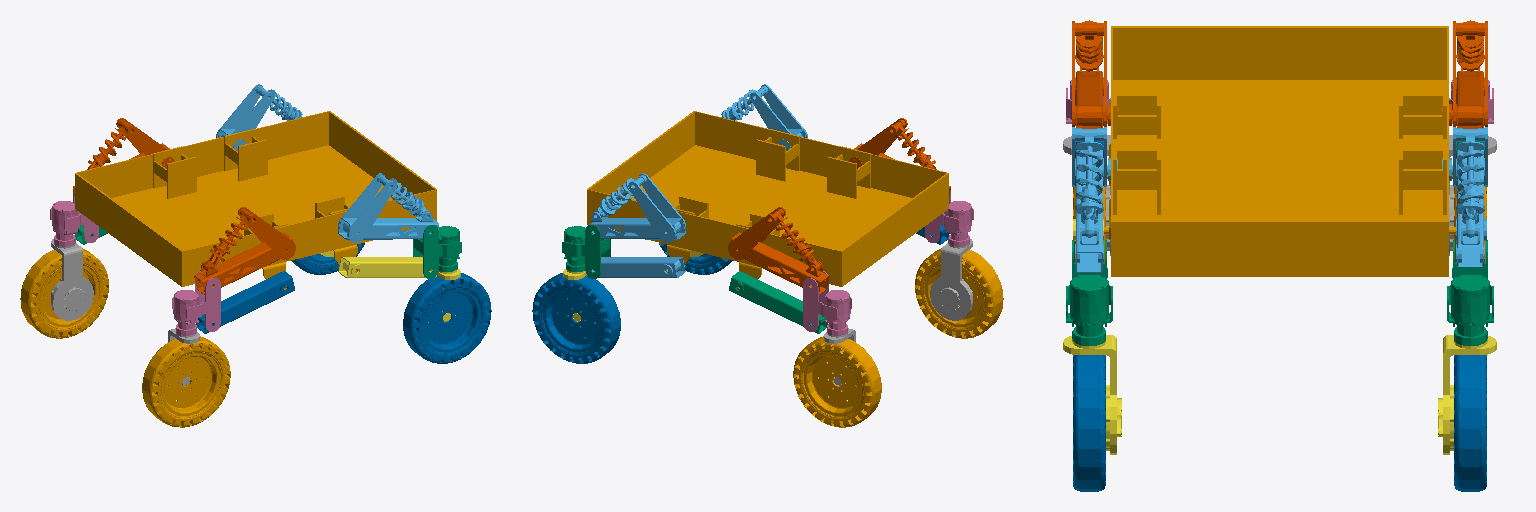
robot.urdf — parallelogram_rover:
<?xml version='1.0' encoding='utf-8'?>
<!--
  parallelogram_rover.urdf — 面向高并行训练的平行四边形等效开链模型

  @author pony
  @date 2026-08-11
  @version v1.0.1
  @last_modified 2026-08-12
  @changelog
    - v1.0.1 (2026-08-12): 四个轮端速度上限统一为 5 转/秒（10*pi rad/s）
    - v1.0.0 (2026-08-11): 迁移 CAD 资产并加入上下摆臂 mimic 联动

  边界：本文件保持 URDF 树结构；下摆臂远端不建立第二 parent，而由 mimic
  关节保证理想平行四边形的运动学联动。真实闭环载荷分配由后续 USD/MJCF
  派生模型负责，训练策略只应控制非 mimic 主关节。
-->
<robot name="parallelogram_rover">
  <link name="base_link">
    <inertial>
      <origin xyz="-8.6361926e-10 0.0019321624 -0.00063856783" rpy="0 0 0" />
      <mass value="3.4461078" />
      <inertia ixx="0.10363444" iyy="0.15841372" izz="0.25679732" ixy="-1.905376e-12" ixz="1.8141684e-11" iyz="-7.9038615e-06" />
    </inertial>
    <visual>
      <origin xyz="-0.16301221 0.051000008 0.090569759" rpy="0 0 0" />
      <geometry>
        <mesh filename="../meshes/part_001_0806_04_01.stl" scale="0.001 0.001 0.001" />
      </geometry>
    </visual>
    <collision>
      <origin xyz="0 0 0" rpy="0 0 0" />
      <geometry>
        <box size="0.68 0.59728 0.146" />
      </geometry>
    </collision>
  </link>
  <link name="fl_arm">
    <inertial>
      <origin xyz="0.080065293 -0.014341666 -0.0011581426" rpy="0 0 0" />
      <mass value="0.2935297" />
      <inertia ixx="0.00053646837" iyy="0.0015728498" izz="0.0019316215" ixy="-5.8425894e-05" ixz="-3.8770982e-05" iyz="7.8535183e-06" />
    </inertial>
    <visual>
      <origin xyz="-0.25801222 -0.050569758 -0.23087" rpy="1.5707963 0 0" />
      <geometry>
        <mesh filename="../meshes/part_004_0806_04_05.stl" scale="0.001 0.001 0.001" />
      </geometry>
    </visual>
  </link>
  <link name="fl_zhuanxiang">
    <inertial>
      <origin xyz="0.046766334 0.058557156 -0.013329707" rpy="0 0 0" />
      <mass value="0.23839331" />
      <inertia ixx="0.00023054384" iyy="0.00023379465" izz="0.00032017385" ixy="-2.6936591e-05" ixz="1.4107961e-07" iyz="6.5435729e-08" />
    </inertial>
    <visual>
      <origin xyz="-0.45287169 -0.095622906 -0.24464" rpy="1.5707963 0 0" />
      <geometry>
        <mesh filename="../meshes/part_002_0806_04_03.stl" scale="0.001 0.001 0.001" />
      </geometry>
    </visual>
  </link>
  <link name="fl_qudong">
    <inertial>
      <origin xyz="-0.00029177758 -0.020772459 -0.15215975" rpy="0 0 0" />
      <mass value="0.26857533" />
      <inertia ixx="0.00089258896" iyy="0.0009611072" izz="0.00018895663" ixy="-7.8780609e-07" ixz="-2.1574507e-06" iyz="-0.00010374897" />
    </inertial>
    <visual>
      <origin xyz="-0.51025325 -0.23137 0.1558363" rpy="0 0 0" />
      <geometry>
        <mesh filename="../meshes/part_014_Copy_1_of_0806_02_10.stl" scale="0.001 0.001 0.001" />
      </geometry>
    </visual>
    <collision>
      <origin xyz="0 -0.0045 -0.1259416" rpy="0 0 0" />
      <geometry>
        <box size="0.11 0.088 0.2175832" />
      </geometry>
    </collision>
  </link>
  <link name="fl_wheel">
    <inertial>
      <origin xyz="-6.4261245e-06 -5.0633409e-05 0.033367991" rpy="0 0 0" />
      <mass value="0.87778312" />
      <inertia ixx="0.0036472254" iyy="0.0036391495" izz="0.0069910427" ixy="5.0153255e-06" ixz="1.0822219e-07" iyz="8.2226923e-07" />
    </inertial>
    <visual>
      <origin xyz="-0.51025325 -0.3355695 -0.19787" rpy="1.5707963 0 0" />
      <geometry>
        <mesh filename="../meshes/part_018_Copy_1_of_0806_02_02.stl" scale="0.001 0.001 0.001" />
      </geometry>
    </visual>
    <collision>
      <origin xyz="0 0 0.0335" rpy="0 0 0" />
      <geometry>
        <cylinder radius="0.1085" length="0.048" />
      </geometry>
    </collision>
  </link>
  <link name="rl_arm">
    <inertial>
      <origin xyz="-0.081854204 -0.013463534 -0.0011346707" rpy="0 0 0" />
      <mass value="0.2977402" />
      <inertia ixx="0.00055453246" iyy="0.0016408131" izz="0.0020161184" ixy="9.090418e-05" ixz="3.9642529e-05" iyz="7.4258156e-06" />
    </inertial>
    <visual>
      <origin xyz="-0.068012217 -0.050569758 -0.23087" rpy="1.5707963 0 0" />
      <geometry>
        <mesh filename="../meshes/part_007_Copy_1_of_0806_02_06.stl" scale="0.001 0.001 0.001" />
      </geometry>
    </visual>
  </link>
  <link name="rl_zhuanxiang">
    <inertial>
      <origin xyz="-0.046766191 0.058556992 -0.026059795" rpy="0 0 0" />
      <mass value="0.23839111" />
      <inertia ixx="0.00023054296" iyy="0.00023379253" izz="0.00032017135" ixy="2.6936018e-05" ixz="-1.4071972e-07" iyz="6.5810717e-08" />
    </inertial>
    <visual>
      <origin xyz="0.12684726 -0.095622906 -0.25737" rpy="1.5707963 0 0" />
      <geometry>
        <mesh filename="../meshes/part_005_0806_04_00.stl" scale="0.001 0.001 0.001" />
      </geometry>
    </visual>
  </link>
  <link name="rl_qudong">
    <inertial>
      <origin xyz="0.00029156796 -0.02077225 -0.14750978" rpy="0 0 0" />
      <mass value="0.26857092" />
      <inertia ixx="0.00089258681" iyy="0.00096110345" izz="0.00018895367" ixy="7.8705403e-07" ixz="2.1553983e-06" iyz="-0.00010374929" />
    </inertial>
    <visual>
      <origin xyz="0.18422882 -0.23137 0.1604863" rpy="0 0 0" />
      <geometry>
        <mesh filename="../meshes/part_015_Copy_1_of_Copy_1_of_2.stl" scale="0.001 0.001 0.001" />
      </geometry>
    </visual>
    <collision>
      <origin xyz="0 -0.0045 -0.1212916" rpy="0 0 0" />
      <geometry>
        <box size="0.11 0.088 0.2175832" />
      </geometry>
    </collision>
  </link>
  <link name="rl_wheel">
    <inertial>
      <origin xyz="-6.0973973e-06 -5.1464453e-05 0.037375721" rpy="0 0 0" />
      <mass value="0.87767946" />
      <inertia ixx="0.0036470114" iyy="0.0036378268" izz="0.0069895492" ixy="-3.3734156e-06" ixz="8.9903895e-08" iyz="8.3652997e-07" />
    </inertial>
    <visual>
      <origin xyz="0.18422882 -0.3355695 -0.19387" rpy="1.5707963 0 0" />
      <geometry>
        <mesh filename="../meshes/part_019_Copy_1_of_0806_03_03.stl" scale="0.001 0.001 0.001" />
      </geometry>
    </visual>
    <collision>
      <origin xyz="0 0 0.0375" rpy="0 0 0" />
      <geometry>
        <cylinder radius="0.1085" length="0.048" />
      </geometry>
    </collision>
  </link>
  <link name="fr_arm">
    <inertial>
      <origin xyz="0.081853839 -0.013463576 0.0011347437" rpy="0 0 0" />
      <mass value="0.29773954" />
      <inertia ixx="0.00055453475" iyy="0.0016408053" izz="0.0020161139" ixy="-9.0906721e-05" ixz="3.9641197e-05" iyz="-7.4253219e-06" />
    </inertial>
    <visual>
      <origin xyz="-0.25801222 -0.050569758 0.32887" rpy="1.5707963 0 0" />
      <geometry>
        <mesh filename="../meshes/part_010_Copy_1_of_Copy_1_of_1.stl" scale="0.001 0.001 0.001" />
      </geometry>
    </visual>
  </link>
  <link name="fr_zhuanxiang">
    <inertial>
      <origin xyz="0.04676619 0.058556987 0.026059793" rpy="0 0 0" />
      <mass value="0.23839103" />
      <inertia ixx="0.00023054286" iyy="0.00023379238" izz="0.00032017114" ixy="-2.6935978e-05" ixz="-1.4072491e-07" iyz="-6.5807282e-08" />
    </inertial>
    <visual>
      <origin xyz="-0.45287169 -0.095622906 0.35537" rpy="1.5707963 0 0" />
      <geometry>
        <mesh filename="../meshes/part_008_Copy_1_of_0806_03_08.stl" scale="0.001 0.001 0.001" />
      </geometry>
    </visual>
  </link>
  <link name="fr_qudong">
    <inertial>
      <origin xyz="-0.00029157462 0.02077225 -0.14750978" rpy="0 0 0" />
      <mass value="0.26857087" />
      <inertia ixx="0.00089258656" iyy="0.00096110317" izz="0.00018895357" ixy="7.8707354e-07" ixz="-2.1554412e-06" iyz="0.00010374924" />
    </inertial>
    <visual>
      <origin xyz="-0.51025325 0.32937 0.1604863" rpy="0 0 0" />
      <geometry>
        <mesh filename="../meshes/part_016_0806_02_01_01.stl" scale="0.001 0.001 0.001" />
      </geometry>
    </visual>
    <collision>
      <origin xyz="0 0.0045 -0.1212916" rpy="0 0 0" />
      <geometry>
        <box size="0.11 0.088 0.2175832" />
      </geometry>
    </collision>
  </link>
  <link name="fr_wheel">
    <inertial>
      <origin xyz="6.0903916e-06 -5.1466374e-05 -0.037375721" rpy="0 0 0" />
      <mass value="0.8776795" />
      <inertia ixx="0.0036470116" iyy="0.0036378267" izz="0.0069895493" ixy="3.3733103e-06" ixz="8.9910591e-08" iyz="-8.3652121e-07" />
    </inertial>
    <visual>
      <origin xyz="-0.51025325 -0.3355695 0.29187" rpy="1.5707963 0 0" />
      <geometry>
        <mesh filename="../meshes/part_020_Copy_1_of_0806_02_12.stl" scale="0.001 0.001 0.001" />
      </geometry>
    </visual>
    <collision>
      <origin xyz="0 0 -0.0375" rpy="0 0 0" />
      <geometry>
        <cylinder radius="0.1085" length="0.048" />
      </geometry>
    </collision>
  </link>
  <link name="rr_arm">
    <inertial>
      <origin xyz="-0.081854491 -0.013463903 0.0011347613" rpy="0 0 0" />
      <mass value="0.29774266" />
      <inertia ixx="0.0005545382" iyy="0.0016408183" izz="0.0020161285" ixy="9.0900283e-05" ixz="-3.9641251e-05" iyz="-7.4245077e-06" />
    </inertial>
    <visual>
      <origin xyz="-0.068012217 -0.050569758 0.32887" rpy="1.5707963 0 0" />
      <geometry>
        <mesh filename="../meshes/part_013_Copy_1_of_0806_03_01.stl" scale="0.001 0.001 0.001" />
      </geometry>
    </visual>
  </link>
  <link name="rr_zhuanxiang">
    <inertial>
      <origin xyz="-0.046766337 0.058557164 0.023059703" rpy="0 0 0" />
      <mass value="0.23839339" />
      <inertia ixx="0.00023054393" iyy="0.00023379479" izz="0.00032017405" ixy="2.6936642e-05" ixz="1.4106118e-07" iyz="-6.5439694e-08" />
    </inertial>
    <visual>
      <origin xyz="0.12684726 -0.095622906 0.35237" rpy="1.5707963 0 0" />
      <geometry>
        <mesh filename="../meshes/part_011_Copy_1_of_0806_02_03.stl" scale="0.001 0.001 0.001" />
      </geometry>
    </visual>
  </link>
  <link name="rr_qudong">
    <inertial>
      <origin xyz="0.00029177098 0.020772457 -0.14750974" rpy="0 0 0" />
      <mass value="0.26857543" />
      <inertia ixx="0.00089258944" iyy="0.00096110772" izz="0.00018895674" ixy="-7.8778706e-07" ixz="2.1574094e-06" iyz="0.00010374902" />
    </inertial>
    <visual>
      <origin xyz="0.18422882 0.32937 0.1604863" rpy="0 0 0" />
      <geometry>
        <mesh filename="../meshes/part_017_Copy_1_of_Copy_1_of_Copy_1_of_Copy_1_of_Copy_1_of_Copy_1_of_0806_02_01_00.stl" scale="0.001 0.001 0.001" />
      </geometry>
    </visual>
    <collision>
      <origin xyz="0 0.0045 -0.1212916" rpy="0 0 0" />
      <geometry>
        <box size="0.11 0.088 0.2175832" />
      </geometry>
    </collision>
  </link>
  <link name="rr_wheel">
    <inertial>
      <origin xyz="6.1798232e-06 -5.0422534e-05 -0.045367991" rpy="0 0 0" />
      <mass value="0.87778299" />
      <inertia ixx="0.0036472249" iyy="0.0036391492" izz="0.0069910419" ixy="-5.0154198e-06" ixz="1.0346683e-07" iyz="-8.181107e-07" />
    </inertial>
    <visual>
      <origin xyz="0.18422882 -0.3355695 0.28387" rpy="1.5707963 0 0" />
      <geometry>
        <mesh filename="../meshes/part_021_Copy_1_of_0806_01.stl" scale="0.001 0.001 0.001" />
      </geometry>
    </visual>
    <collision>
      <origin xyz="0 0 -0.0455" rpy="0 0 0" />
      <geometry>
        <cylinder radius="0.1085" length="0.048" />
      </geometry>
    </collision>
  </link>
  <!-- 下摆臂保留真实质量和视觉网格，但不参与外部碰撞；其远端在等效模型中
       由 mimic 运动学重合，省去四个高频闭环约束和内部接触求解。 -->
  <link name="fl_lower_arm">
    <inertial>
      <origin xyz="0.094747974 0.021905998 0.001007933" rpy="0 0 0" />
      <mass value="0.11902542" />
      <inertia ixx="8.651247e-05" iyy="0.00075147191" izz="0.00078593721" ixy="-0.00016243384" ixz="5.7168314e-06" iyz="1.3204616e-06" />
    </inertial>
    <visual>
      <origin xyz="-0.25801222 -0.14856976 -0.23087" rpy="1.5707963 0 0" />
      <geometry>
        <mesh filename="../meshes/part_003_0806_04_04.stl" scale="0.001 0.001 0.001" />
      </geometry>
    </visual>
  </link>
  <link name="rl_lower_arm">
    <inertial>
      <origin xyz="-0.094747977 0.021906 0.001007933" rpy="0 0 0" />
      <mass value="0.11902541" />
      <inertia ixx="8.651246e-05" iyy="0.00075147171" izz="0.000785937" ixy="0.0001624338" ixz="-5.7168321e-06" iyz="1.3204625e-06" />
    </inertial>
    <visual>
      <origin xyz="-0.068012217 -0.14856976 -0.23087" rpy="1.5707963 0 0" />
      <geometry>
        <mesh filename="../meshes/part_006_0806_05_00.stl" scale="0.001 0.001 0.001" />
      </geometry>
    </visual>
  </link>
  <link name="fr_lower_arm">
    <inertial>
      <origin xyz="0.094747976 0.021905999 -0.001007936" rpy="0 0 0" />
      <mass value="0.11902543" />
      <inertia ixx="8.6512477e-05" iyy="0.00075147192" izz="0.00078593722" ixy="-0.00016243384" ixz="-5.7168115e-06" iyz="-1.3204573e-06" />
    </inertial>
    <visual>
      <origin xyz="-0.25801222 -0.14856976 0.32887" rpy="1.5707963 0 0" />
      <geometry>
        <mesh filename="../meshes/part_009_Copy_1_of_0806_02_07.stl" scale="0.001 0.001 0.001" />
      </geometry>
    </visual>
  </link>
  <link name="rr_lower_arm">
    <inertial>
      <origin xyz="-0.094747979 0.021906001 -0.001007936" rpy="0 0 0" />
      <mass value="0.11902541" />
      <inertia ixx="8.6512468e-05" iyy="0.00075147173" izz="0.00078593702" ixy="0.0001624338" ixz="5.7168123e-06" iyz="-1.3204578e-06" />
    </inertial>
    <visual>
      <origin xyz="-0.068012217 -0.14856976 0.32887" rpy="1.5707963 0 0" />
      <geometry>
        <mesh filename="../meshes/part_012_Copy_1_of_0806_02_04.stl" scale="0.001 0.001 0.001" />
      </geometry>
    </visual>
  </link>
  <joint name="fl_arm_joint" type="revolute">
    <origin xyz="0.095000002 0.28187001 0.040000002" rpy="-1.5707963 0 0" />
    <parent link="base_link" />
    <child link="fl_arm" />
    <axis xyz="0 0 1" />
    <limit lower="-0.6109" upper="0.6109" effort="10" velocity="5" />
  </joint>
  <joint name="fl_zhuanxiang_joint" type="revolute">
    <origin xyz="0.19485947 0.045053148 0.01377" rpy="0 0 0" />
    <parent link="fl_arm" />
    <child link="fl_zhuanxiang" />
    <axis xyz="0 0 1" />
    <limit lower="-0.6109" upper="0.6109" effort="10" velocity="5" />
    <mimic joint="fl_arm_joint" multiplier="-1" offset="0" />
  </joint>
  <joint name="fl_qudong_joint" type="revolute">
    <origin xyz="0.057381563 0.060213395 -0.01327" rpy="1.5707963 0 0" />
    <parent link="fl_zhuanxiang" />
    <child link="fl_qudong" />
    <axis xyz="0 0 1" />
    <limit lower="-1.57" upper="1.57" effort="10" velocity="5" />
  </joint>
  <joint name="fl_wheel_joint" type="continuous">
    <origin xyz="0 -0.0335 -0.1797332" rpy="-1.5707963 0 0" />
    <parent link="fl_qudong" />
    <child link="fl_wheel" />
    <axis xyz="0 0 1" />
    <limit effort="10" velocity="31.4159265359" />
  </joint>
  <joint name="rl_arm_joint" type="revolute">
    <origin xyz="-0.094999998 0.28187001 0.040000002" rpy="-1.5707963 0 0" />
    <parent link="base_link" />
    <child link="rl_arm" />
    <axis xyz="0 0 1" />
    <limit lower="-0.6109" upper="0.6109" effort="10" velocity="5" />
  </joint>
  <joint name="rl_zhuanxiang_joint" type="revolute">
    <origin xyz="-0.19485947 0.045053148 0.0265" rpy="0 0 0" />
    <parent link="rl_arm" />
    <child link="rl_zhuanxiang" />
    <axis xyz="0 0 1" />
    <limit lower="-0.6109" upper="0.6109" effort="10" velocity="5" />
    <mimic joint="rl_arm_joint" multiplier="-1" offset="0" />
  </joint>
  <joint name="rl_qudong_joint" type="revolute">
    <origin xyz="-0.057381563 0.064863395 -0.026" rpy="1.5707963 0 0" />
    <parent link="rl_zhuanxiang" />
    <child link="rl_qudong" />
    <axis xyz="0 0 1" />
    <limit lower="-1.57" upper="1.57" effort="10" velocity="5" />
  </joint>
  <joint name="rl_wheel_joint" type="continuous">
    <origin xyz="0 -0.0375 -0.1750832" rpy="-1.5707963 0 0" />
    <parent link="rl_qudong" />
    <child link="rl_wheel" />
    <axis xyz="0 0 1" />
    <limit effort="10" velocity="31.4159265359" />
  </joint>
  <joint name="fr_arm_joint" type="revolute">
    <origin xyz="0.095000002 -0.27786999 0.040000002" rpy="-1.5707963 0 0" />
    <parent link="base_link" />
    <child link="fr_arm" />
    <axis xyz="0 0 1" />
    <limit lower="-0.6109" upper="0.6109" effort="10" velocity="5" />
  </joint>
  <joint name="fr_zhuanxiang_joint" type="revolute">
    <origin xyz="0.19485947 0.045053148 -0.0265" rpy="0 0 0" />
    <parent link="fr_arm" />
    <child link="fr_zhuanxiang" />
    <axis xyz="0 0 1" />
    <limit lower="-0.6109" upper="0.6109" effort="10" velocity="5" />
    <mimic joint="fr_arm_joint" multiplier="-1" offset="0" />
  </joint>
  <joint name="fr_qudong_joint" type="revolute">
    <origin xyz="0.057381563 0.064863395 0.026" rpy="1.5707963 0 0" />
    <parent link="fr_zhuanxiang" />
    <child link="fr_qudong" />
    <axis xyz="0 0 1" />
    <limit lower="-1.57" upper="1.57" effort="10" velocity="5" />
  </joint>
  <joint name="fr_wheel_joint" type="continuous">
    <origin xyz="0 0.0375 -0.1750832" rpy="-1.5707963 0 0" />
    <parent link="fr_qudong" />
    <child link="fr_wheel" />
    <axis xyz="0 0 1" />
    <limit effort="10" velocity="31.4159265359" />
  </joint>
  <joint name="rr_arm_joint" type="revolute">
    <origin xyz="-0.094999998 -0.27786999 0.040000002" rpy="-1.5707963 0 0" />
    <parent link="base_link" />
    <child link="rr_arm" />
    <axis xyz="0 0 1" />
    <limit lower="-0.6109" upper="0.6109" effort="10" velocity="5" />
  </joint>
  <joint name="rr_zhuanxiang_joint" type="revolute">
    <origin xyz="-0.19485947 0.045053148 -0.0235" rpy="0 0 0" />
    <parent link="rr_arm" />
    <child link="rr_zhuanxiang" />
    <axis xyz="0 0 1" />
    <limit lower="-0.6109" upper="0.6109" effort="10" velocity="5" />
    <mimic joint="rr_arm_joint" multiplier="-1" offset="0" />
  </joint>
  <joint name="rr_qudong_joint" type="revolute">
    <origin xyz="-0.057381563 0.064863395 0.023" rpy="1.5707963 0 0" />
    <parent link="rr_zhuanxiang" />
    <child link="rr_qudong" />
    <axis xyz="0 0 1" />
    <limit lower="-1.57" upper="1.57" effort="10" velocity="5" />
  </joint>
  <joint name="rr_wheel_joint" type="continuous">
    <origin xyz="0 0.0455 -0.1750832" rpy="-1.5707963 0 0" />
    <parent link="rr_qudong" />
    <child link="rr_wheel" />
    <axis xyz="0 0 1" />
    <limit effort="10" velocity="31.4159265359" />
  </joint>
  <joint name="fl_lower_arm_joint" type="revolute">
    <origin xyz="0.095000002 0.28187001 -0.057999998" rpy="-1.5707963 0 0" />
    <parent link="base_link" />
    <child link="fl_lower_arm" />
    <axis xyz="0 0 1" />
    <limit lower="-0.6109" upper="0.6109" effort="10" velocity="5" />
    <mimic joint="fl_arm_joint" multiplier="1" offset="0" />
  </joint>
  <joint name="rl_lower_arm_joint" type="revolute">
    <origin xyz="-0.094999998 0.28187001 -0.057999998" rpy="-1.5707963 0 0" />
    <parent link="base_link" />
    <child link="rl_lower_arm" />
    <axis xyz="0 0 1" />
    <limit lower="-0.6109" upper="0.6109" effort="10" velocity="5" />
    <mimic joint="rl_arm_joint" multiplier="1" offset="0" />
  </joint>
  <joint name="fr_lower_arm_joint" type="revolute">
    <origin xyz="0.095000002 -0.27786999 -0.057999998" rpy="-1.5707963 0 0" />
    <parent link="base_link" />
    <child link="fr_lower_arm" />
    <axis xyz="0 0 1" />
    <limit lower="-0.6109" upper="0.6109" effort="10" velocity="5" />
    <mimic joint="fr_arm_joint" multiplier="1" offset="0" />
  </joint>
  <joint name="rr_lower_arm_joint" type="revolute">
    <origin xyz="-0.094999998 -0.27786999 -0.057999998" rpy="-1.5707963 0 0" />
    <parent link="base_link" />
    <child link="rr_lower_arm" />
    <axis xyz="0 0 1" />
    <limit lower="-0.6109" upper="0.6109" effort="10" velocity="5" />
    <mimic joint="rr_arm_joint" multiplier="1" offset="0" />
  </joint>
</robot>

--- Render facts (derived) ---
Views: 3 orthographic renders of the robot side by side, from view 1: azimuth 30°, elevation 25°; view 2: azimuth 150°, elevation 25°; view 3: azimuth 270°, elevation 25°.
Robot: parallelogram_rover — 21 links, 20 joints (16 revolute, 4 continuous); root link base_link; default pose: all joints at 0.
Links seen in each view (by area): view 1: base_link, rr_wheel, fr_wheel, rl_wheel, fr_arm, rr_arm, rl_qudong, rr_zhuanxiang, fl_arm, rr_lower_arm, fr_zhuanxiang, fr_lower_arm (+3 smaller); view 2: base_link, rl_wheel, fl_wheel, rr_wheel, fl_arm, rl_arm, rr_qudong, rl_zhuanxiang, fr_arm, rl_lower_arm, fl_zhuanxiang, fl_lower_arm (+3 smaller); view 3: base_link, fl_wheel, fr_wheel, fr_arm, fl_arm, rl_arm, rr_arm, fl_zhuanxiang, fr_zhuanxiang, fl_qudong, fr_qudong.
Boxes of the visible links, bbox=[...] form: base_link: bbox=[75, 111, 436, 289]; rr_wheel: bbox=[142, 336, 230, 427]; fr_wheel: bbox=[403, 273, 491, 363]; rl_wheel: bbox=[20, 248, 108, 338]; fr_arm: bbox=[338, 173, 438, 242]; rr_arm: bbox=[194, 207, 295, 294]; rl_qudong: bbox=[51, 239, 93, 320]; rr_zhuanxiang: bbox=[172, 271, 220, 335]; fl_arm: bbox=[216, 84, 302, 150]; rr_lower_arm: bbox=[196, 271, 294, 333]; fr_zhuanxiang: bbox=[413, 225, 461, 278]; fr_lower_arm: bbox=[338, 257, 436, 277]; base_link: bbox=[587, 111, 948, 288]; rl_wheel: bbox=[793, 336, 881, 427]; fl_wheel: bbox=[532, 273, 620, 363]; rr_wheel: bbox=[915, 248, 1003, 338]; fl_arm: bbox=[589, 173, 685, 242]; rl_arm: bbox=[728, 207, 829, 294]; rr_qudong: bbox=[930, 239, 972, 320]; rl_zhuanxiang: bbox=[803, 271, 851, 335]; fr_arm: bbox=[721, 84, 807, 150]; rl_lower_arm: bbox=[729, 271, 827, 333]; fl_zhuanxiang: bbox=[562, 225, 610, 278]; fl_lower_arm: bbox=[587, 257, 685, 277]; base_link: bbox=[1104, 26, 1455, 276]; fl_wheel: bbox=[1454, 355, 1486, 491]; fr_wheel: bbox=[1073, 355, 1105, 491]; fr_arm: bbox=[1072, 127, 1117, 272]; fl_arm: bbox=[1442, 127, 1487, 266]; rl_arm: bbox=[1442, 20, 1487, 128]; rr_arm: bbox=[1072, 20, 1117, 128]; fl_zhuanxiang: bbox=[1447, 240, 1493, 345]; fr_zhuanxiang: bbox=[1066, 240, 1112, 345]; fl_qudong: bbox=[1438, 335, 1496, 454]; fr_qudong: bbox=[1063, 335, 1121, 454].
Size in the robot's own frame: 0.9115 by 0.6397 by 0.503 metres.
21 mesh visuals loaded from 21 distinct referenced files (21 binary STL).
